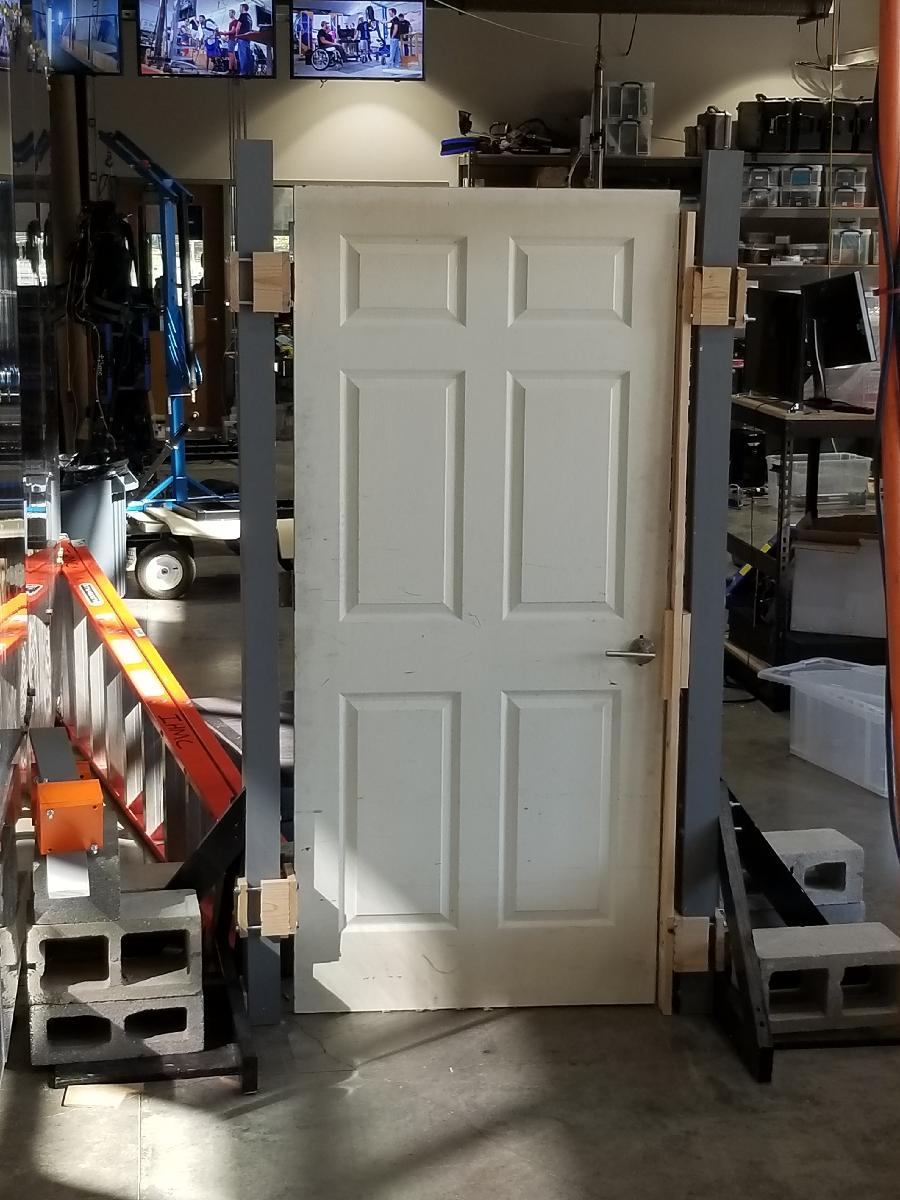door: (290, 178, 682, 1010)
doorHandle: (594, 628, 665, 677)
